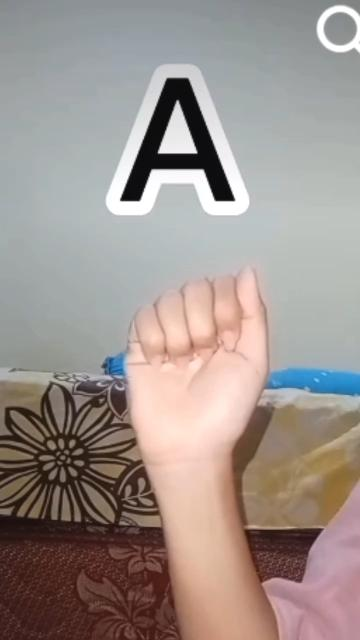A: (117, 264, 273, 491)
